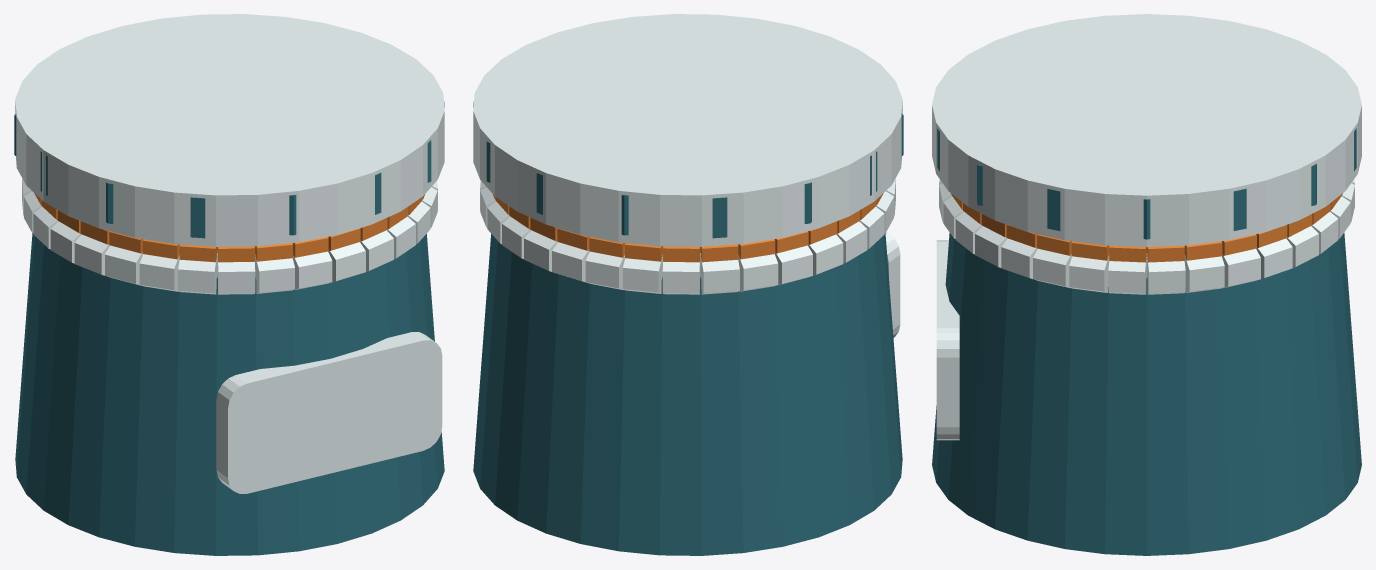
The model's file is sealjar.glb.
3 renders of one model, left to right at view 1: azimuth 30°, elevation 25°; view 2: azimuth 150°, elevation 25°; view 3: azimuth 270°, elevation 25°, orthographic.
Visible parts, largest first — view 1: jar base, lid, label, shoulder11, shoulder9, shoulder12, shoulder10, shoulder8, shoulder13, shoulder7, shoulder14, shoulder6 (+10 smaller); view 2: jar base, lid, shoulder20, shoulder22, shoulder19, shoulder21, shoulder23, shoulder18, label, shoulder24, shoulder17, shoulder25 (+10 smaller); view 3: jar base, lid, label, shoulder1, shoulder30, shoulder0, shoulder31, shoulder2, shoulder29, shoulder3, shoulder28, shoulder4 (+11 smaller).
Part boxes in pixels (left/top/right/bottom): jar base: left=15, top=233, right=444, bottom=555; lid: left=15, top=14, right=444, bottom=246; label: left=216, top=332, right=442, bottom=493; shoulder11: left=178, top=254, right=217, bottom=294; shoulder9: left=255, top=254, right=294, bottom=293; shoulder12: left=139, top=254, right=179, bottom=291; shoulder10: left=217, top=253, right=255, bottom=294; shoulder8: left=292, top=251, right=332, bottom=289; shoulder13: left=105, top=245, right=143, bottom=285; shoulder7: left=328, top=242, right=365, bottom=283; shoulder14: left=74, top=234, right=109, bottom=275; shoulder6: left=360, top=230, right=393, bottom=271; jar base: left=473, top=233, right=902, bottom=555; lid: left=473, top=14, right=902, bottom=246; shoulder20: left=700, top=254, right=739, bottom=294; shoulder22: left=623, top=254, right=662, bottom=293; shoulder19: left=738, top=254, right=778, bottom=291; shoulder21: left=662, top=253, right=700, bottom=294; shoulder23: left=585, top=251, right=625, bottom=289; shoulder18: left=774, top=245, right=812, bottom=285; label: left=885, top=232, right=900, bottom=337; shoulder24: left=552, top=242, right=589, bottom=283; shoulder17: left=808, top=234, right=843, bottom=275; shoulder25: left=524, top=230, right=557, bottom=271; jar base: left=932, top=233, right=1361, bottom=555; lid: left=932, top=14, right=1361, bottom=246; label: left=936, top=240, right=959, bottom=440; shoulder1: left=1069, top=255, right=1109, bottom=292; shoulder30: left=1184, top=255, right=1224, bottom=292; shoulder0: left=1108, top=254, right=1146, bottom=294; shoulder31: left=1147, top=254, right=1185, bottom=294; shoulder2: left=1033, top=248, right=1071, bottom=288; shoulder29: left=1222, top=248, right=1260, bottom=288; shoulder3: left=1001, top=238, right=1037, bottom=278; shoulder28: left=1256, top=238, right=1292, bottom=278; shoulder4: left=975, top=226, right=1007, bottom=267.
Bounding box in the file's own units: 1.06 × 0.98 × 1.06.
